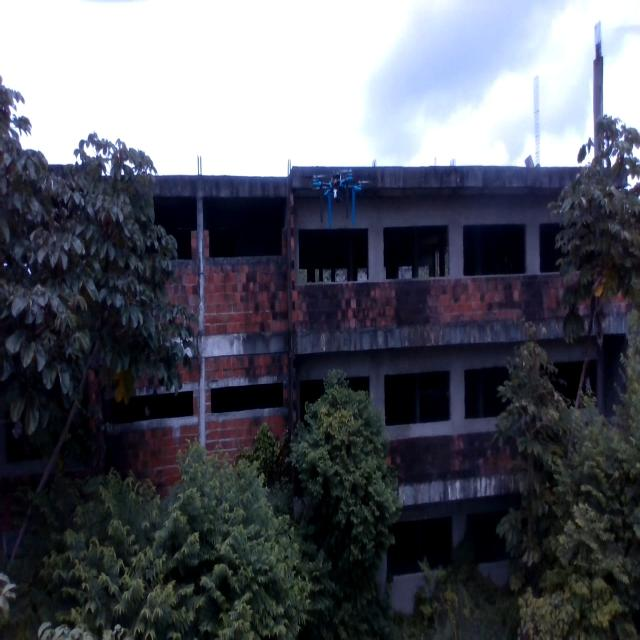-uav-: (309, 156, 374, 231)
